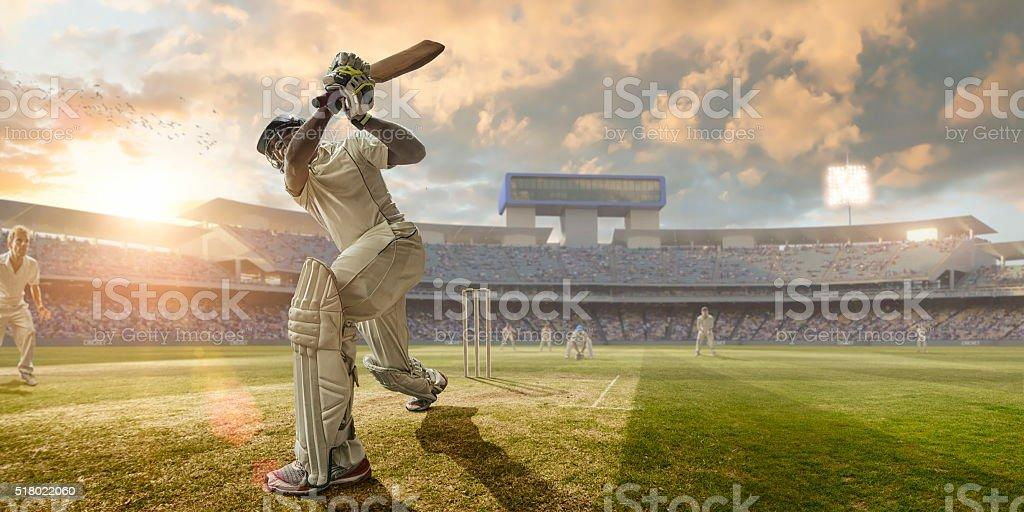batsman: (254, 35, 450, 494)
